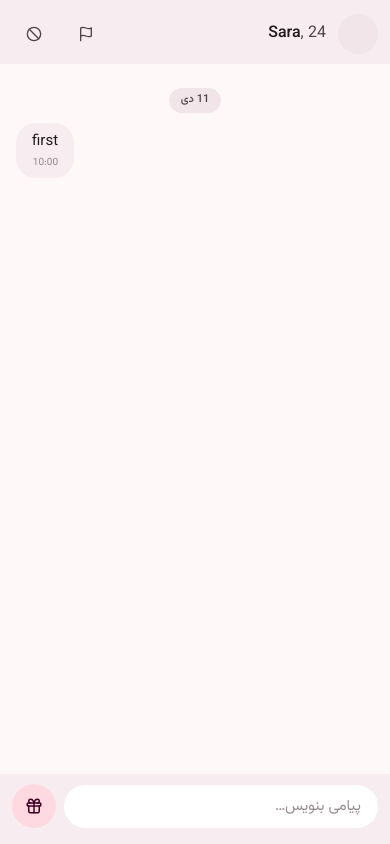
it: Chat — live events › shows one bubble when the live event beats the POST response
The width and height of the screenshot is (390, 844).
Type "yo" into the text box with placeholder "پیامی بنویس…" at x=221, y=806, box [64, 785, 378, 828]
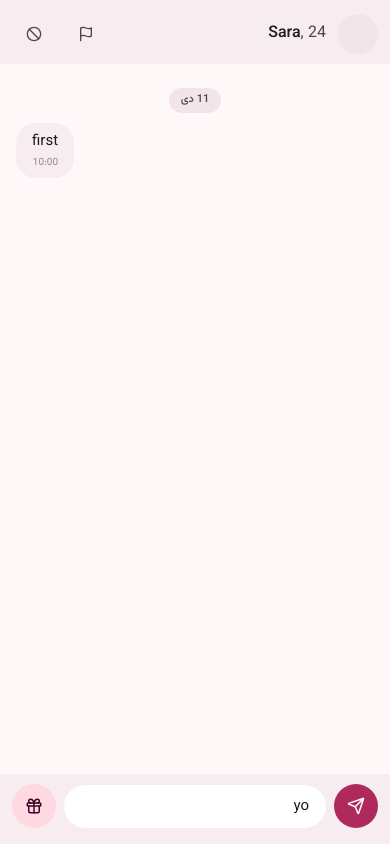
Click the button named "ارسال" at x=356, y=806, box [334, 784, 378, 828]
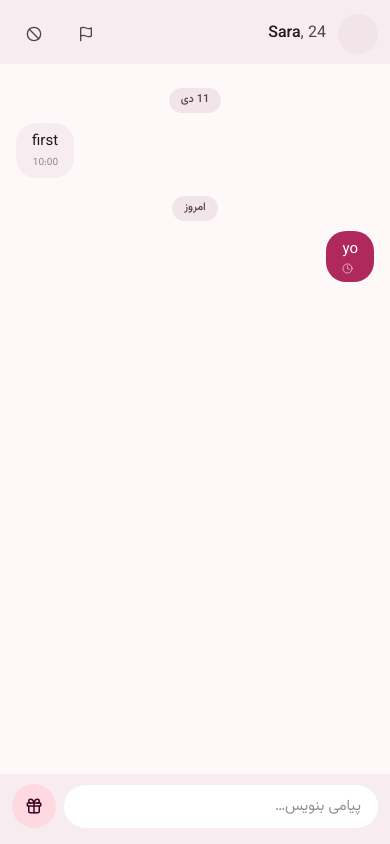
Check: the text "yo" is shown once, box [342, 238, 358, 261]
